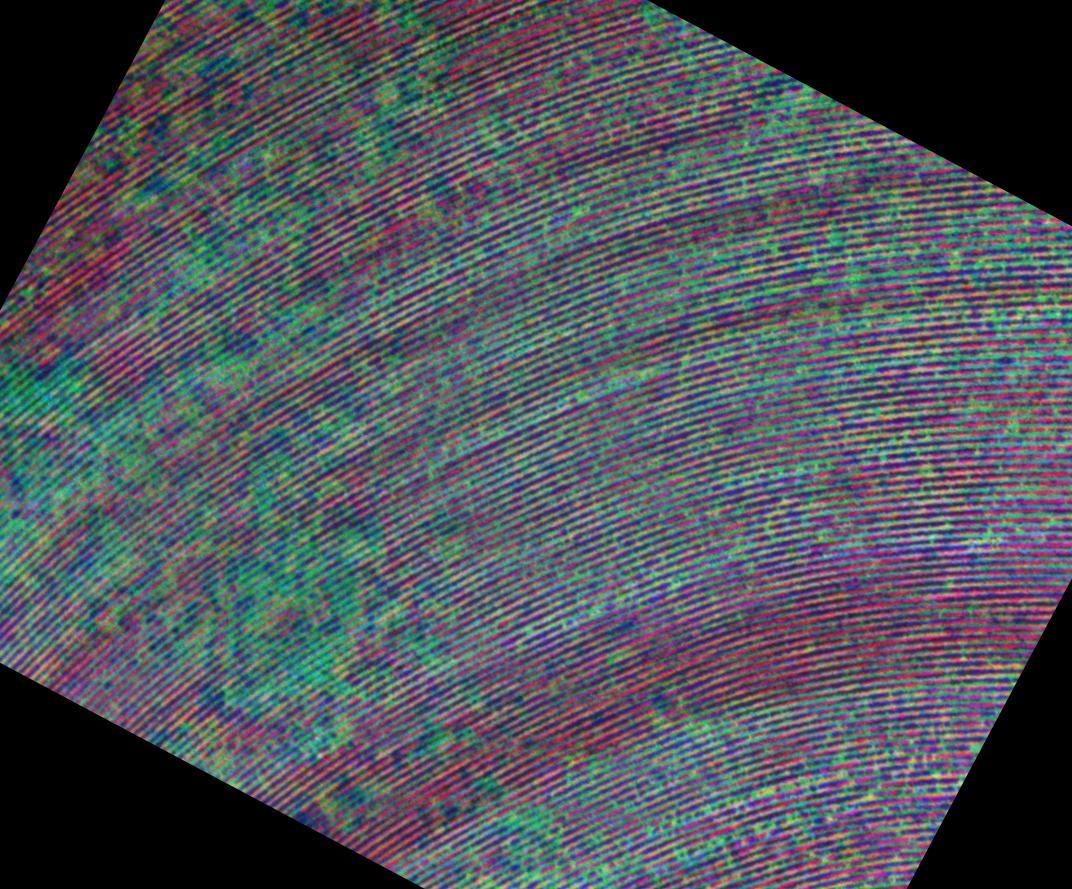dc: (236, 640, 337, 737), (498, 798, 578, 888), (733, 103, 816, 186), (208, 200, 278, 275), (13, 390, 75, 461)
